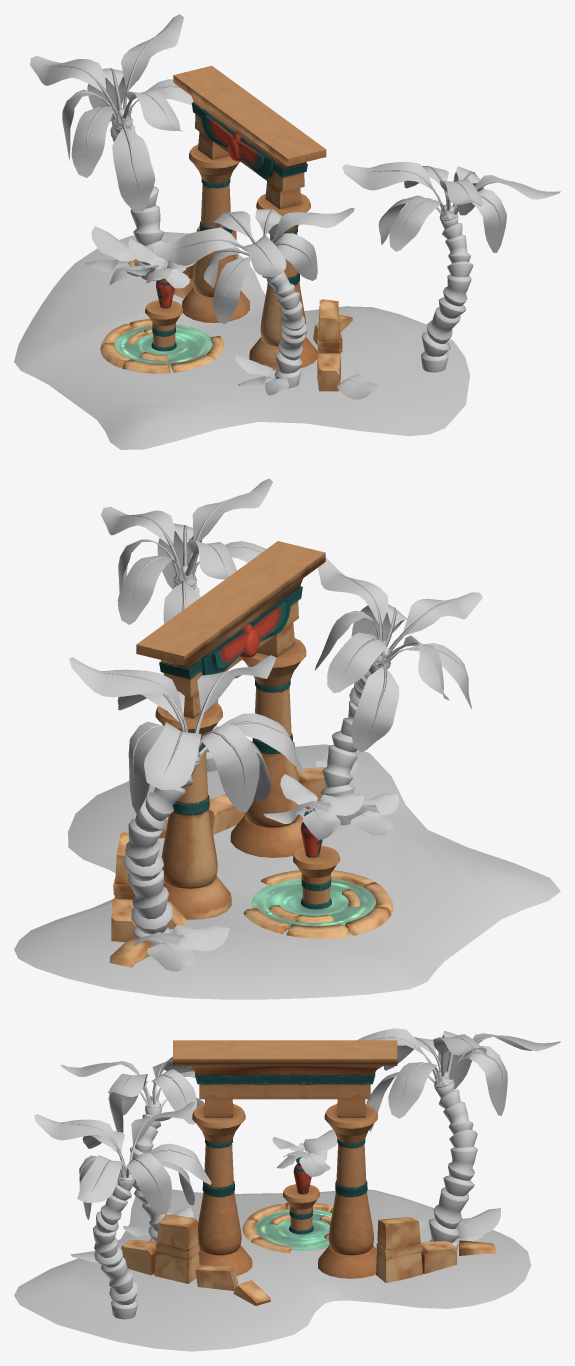
3 renders of one model, top to bottom at view 1: azimuth 30°, elevation 25°; view 2: azimuth 150°, elevation 25°; view 3: azimuth 270°, elevation 25°, orthographic. The views are drawn at different scales.
Parts seen in each view (by area): view 1: Line002, Arch_TEXTURE_0, Box034, Box036, Box035, Water001_TEXTURE 3_0, Box052_TEXTURE 2_0, Stones001_TEXTURE_0, Round Stone007_TEXTURE_0, Box042_TEXTURE 2_0, Object025_TEXTURE_0, Box051_TEXTURE 2_0; view 2: Line002, Arch_TEXTURE_0, Box034, Box035, Box036, Round Stone007_TEXTURE_0, Water001_TEXTURE 3_0, Box042_TEXTURE 2_0, Box052_TEXTURE 2_0, Object025_TEXTURE_0, Stones_TEXTURE_0, Box051_TEXTURE 2_0 (+4 smaller); view 3: Line002, Arch_TEXTURE_0, Box034, Box036, Box035, Stones_TEXTURE_0, Stones001_TEXTURE_0, Water001_TEXTURE 3_0, Box042_TEXTURE 2_0, Box052_TEXTURE 2_0, Object025_TEXTURE_0, Round Stone007_TEXTURE_0 (+4 smaller).
Part boxes in pixels (x1=…): Line002: x1=14, y1=232, x2=469, y2=449; Arch_TEXTURE_0: x1=173, y1=65, x2=326, y2=370; Box034: x1=30, y1=14, x2=193, y2=280; Box036: x1=342, y1=162, x2=560, y2=372; Box035: x1=153, y1=208, x2=354, y2=388; Water001_TEXTURE 3_0: x1=114, y1=324, x2=212, y2=366; Box052_TEXTURE 2_0: x1=85, y1=226, x2=377, y2=399; Stones001_TEXTURE_0: x1=317, y1=299, x2=340, y2=391; Round Stone007_TEXTURE_0: x1=100, y1=319, x2=224, y2=373; Box042_TEXTURE 2_0: x1=125, y1=238, x2=196, y2=288; Object025_TEXTURE_0: x1=145, y1=300, x2=182, y2=351; Box051_TEXTURE 2_0: x1=235, y1=354, x2=289, y2=395; Line002: x1=14, y1=744, x2=560, y2=999; Arch_TEXTURE_0: x1=136, y1=541, x2=325, y2=919; Box034: x1=69, y1=655, x2=305, y2=946; Box035: x1=315, y1=557, x2=482, y2=825; Box036: x1=101, y1=478, x2=272, y2=772; Round Stone007_TEXTURE_0: x1=243, y1=870, x2=393, y2=938; Water001_TEXTURE 3_0: x1=251, y1=878, x2=376, y2=927; Box042_TEXTURE 2_0: x1=263, y1=774, x2=364, y2=839; Box052_TEXTURE 2_0: x1=133, y1=749, x2=356, y2=971; Object025_TEXTURE_0: x1=293, y1=846, x2=339, y2=909; Stones_TEXTURE_0: x1=111, y1=832, x2=136, y2=942; Box051_TEXTURE 2_0: x1=344, y1=793, x2=399, y2=835; Line002: x1=14, y1=1189, x2=531, y2=1351; Arch_TEXTURE_0: x1=173, y1=1040, x2=397, y2=1278; Box034: x1=357, y1=1028, x2=560, y2=1251; Box036: x1=34, y1=1101, x2=211, y2=1319; Box035: x1=61, y1=1056, x2=204, y2=1241; Stones_TEXTURE_0: x1=376, y1=1217, x2=456, y2=1282; Stones001_TEXTURE_0: x1=121, y1=1214, x2=199, y2=1283; Water001_TEXTURE 3_0: x1=254, y1=1209, x2=332, y2=1250; Box042_TEXTURE 2_0: x1=272, y1=1129, x2=337, y2=1176; Box052_TEXTURE 2_0: x1=70, y1=1208, x2=500, y2=1262; Object025_TEXTURE_0: x1=283, y1=1184, x2=319, y2=1234; Round Stone007_TEXTURE_0: x1=242, y1=1202, x2=333, y2=1253.
Size of the model in its own units: 558 by 347 by 666.
